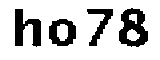7: (83, 6, 115, 48)
8: (119, 8, 151, 51)
h: (10, 6, 42, 52)
o: (48, 18, 79, 49)
